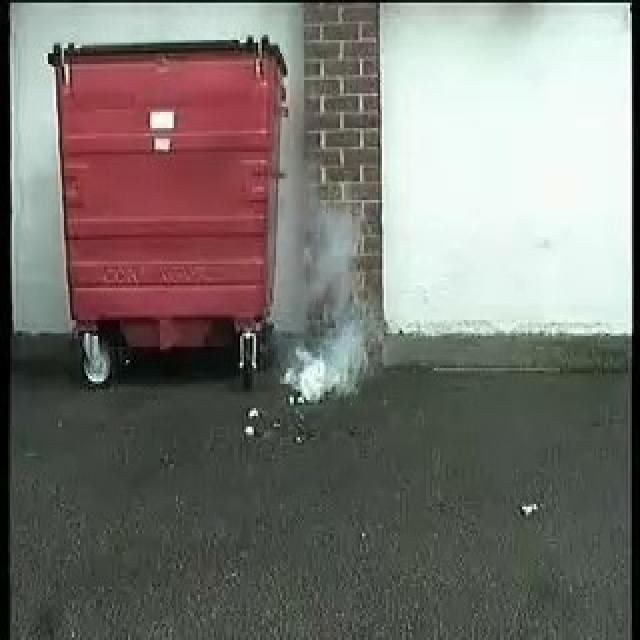smoke: (274, 192, 368, 403)
